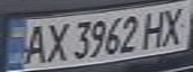2: (118, 11, 145, 53)
3: (69, 17, 93, 61)
6: (106, 14, 127, 56)
9: (87, 16, 109, 58)
A: (18, 20, 51, 65)
H: (139, 7, 172, 50)
X: (157, 3, 193, 47), (39, 19, 72, 63)
